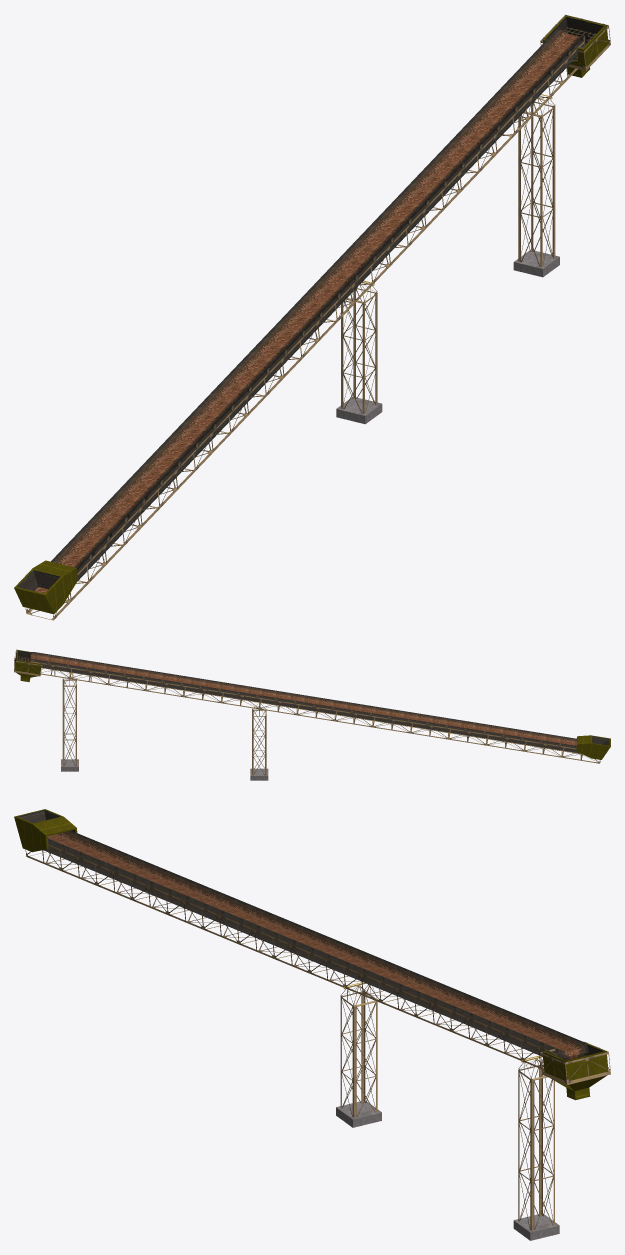
Rendered from des_quarrybelt02.obj.
The picture shows the model from 3 angles, top to bottom: view 1: azimuth 30°, elevation 25°; view 2: azimuth 150°, elevation 25°; view 3: azimuth 270°, elevation 25°; orthographic projection. The views are drawn at different scales.
Parts seen in each view (by area): view 1: des_quarrybelt02; view 2: des_quarrybelt02; view 3: des_quarrybelt02.
Boxes of the visible parts, x1,y1,x2,y2 form: des_quarrybelt02: [14, 14, 610, 620]; des_quarrybelt02: [14, 649, 610, 780]; des_quarrybelt02: [14, 809, 610, 1240].
Bounding box in the file's own units: 36.66 × 9.34 × 22.09.
6 materials, 6 textured.
